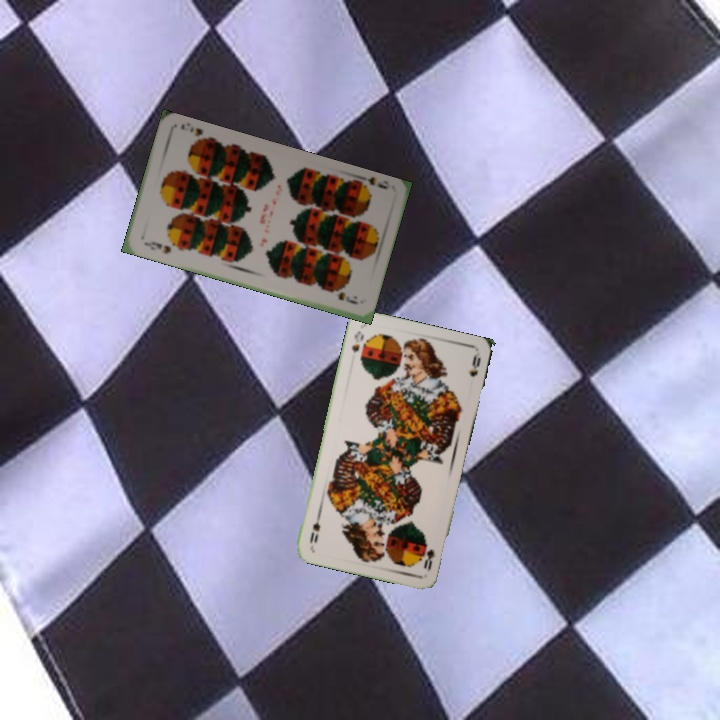S9: (354, 171, 390, 192), (140, 238, 173, 257)
SO: (348, 326, 367, 363), (419, 538, 438, 574)
